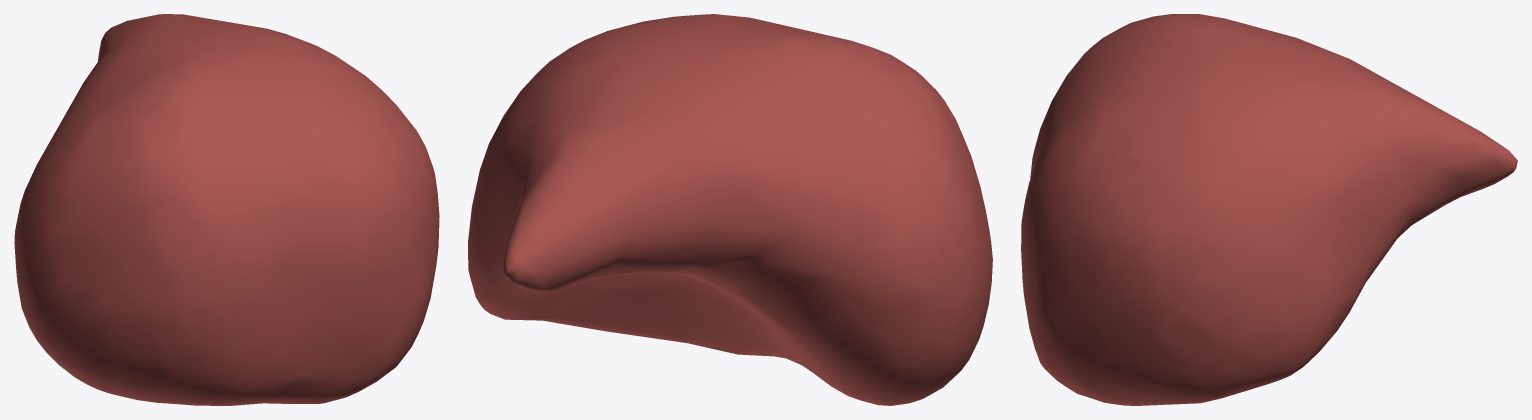
The model's file is FMA72833.glb.
The picture shows the model from 3 angles, left to right: view 1: azimuth 30°, elevation 25°; view 2: azimuth 150°, elevation 25°; view 3: azimuth 270°, elevation 25°; orthographic projection. The views are drawn at different scales.
Parts seen in each view (by area): view 1: FMA72833; view 2: FMA72833; view 3: FMA72833.
Part boxes in pixels (<box>): FMA72833: <box>14,14,439,405</box>; FMA72833: <box>468,14,992,405</box>; FMA72833: <box>1021,14,1517,405</box>.
Bounding box in the file's own units: 0.0163 × 0.0123 × 0.0175.
